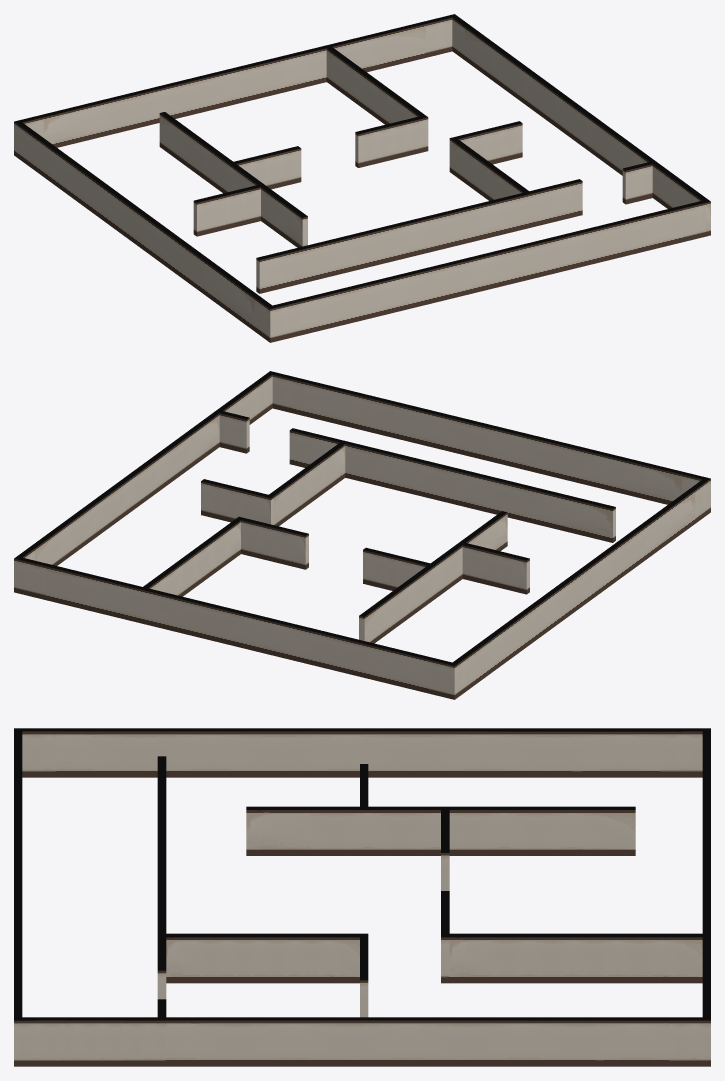
The model's file is Easy Wall.fbx.
The picture shows the model from 3 angles, top to bottom: view 1: azimuth 30°, elevation 25°; view 2: azimuth 150°, elevation 25°; view 3: azimuth 270°, elevation 25°; orthographic projection. The views are drawn at different scales.
Parts seen in each view (by area): view 1: Corner 1.003, Wall 1.002, Wall 1.006, Wall 1.007, Wall 1.004, Wall 1.008, Wall 1.003, Wall 1.010, Wall 1.013, Wall 1.009, Wall 1.012, Wall 1.011 (+7 smaller); view 2: Corner 1.003, Wall 1.002, Wall 1.006, Wall 1.007, Wall 1.004, Wall 1.008, Wall 1.003, Wall 1.009, Wall 1.010, Wall 1.013, Wall 1.012, Wall 1.011 (+5 smaller); view 3: Wall 1.007, Wall 1.004, Wall 1.008, Wall 1.003, Wall 1.009, Corner 1.003, Wall 1.005, Corner 1.002, Wall 1.006, Wall 1.002, Corner 1.038, Corner 1 (+6 smaller).
Part boxes in pixels (x1=…): Corner 1.003: x1=19, y1=14, x2=457, y2=147; Wall 1.002: x1=300, y1=206, x2=683, y2=334; Wall 1.006: x1=256, y1=179, x2=582, y2=293; Wall 1.007: x1=32, y1=134, x2=259, y2=331; Wall 1.004: x1=465, y1=25, x2=654, y2=175; Wall 1.008: x1=159, y1=112, x2=307, y2=247; Wall 1.003: x1=326, y1=47, x2=424, y2=124; Wall 1.010: x1=355, y1=115, x2=428, y2=167; Wall 1.013: x1=193, y1=185, x2=260, y2=236; Wall 1.009: x1=452, y1=139, x2=528, y2=200; Wall 1.012: x1=449, y1=121, x2=522, y2=173; Wall 1.011: x1=233, y1=146, x2=301, y2=189; Corner 1.003: x1=14, y1=556, x2=451, y2=698; Wall 1.002: x1=294, y1=377, x2=684, y2=504; Wall 1.006: x1=289, y1=428, x2=615, y2=542; Wall 1.007: x1=468, y1=488, x2=695, y2=685; Wall 1.004: x1=30, y1=412, x2=219, y2=565; Wall 1.008: x1=359, y1=511, x2=507, y2=643; Wall 1.003: x1=143, y1=519, x2=240, y2=596; Wall 1.009: x1=269, y1=442, x2=345, y2=526; Wall 1.010: x1=236, y1=516, x2=308, y2=569; Wall 1.013: x1=462, y1=543, x2=529, y2=594; Wall 1.012: x1=201, y1=479, x2=273, y2=524; Wall 1.011: x1=363, y1=547, x2=430, y2=590; Wall 1.007: x1=55, y1=728, x2=660, y2=777; Wall 1.004: x1=165, y1=1017, x2=668, y2=1066; Wall 1.008: x1=246, y1=806, x2=635, y2=855; Wall 1.003: x1=449, y1=933, x2=702, y2=983; Wall 1.009: x1=166, y1=933, x2=360, y2=983; Corner 1.003: x1=702, y1=731, x2=710, y2=1066; Wall 1.005: x1=64, y1=1017, x2=123, y2=1066; Corner 1.002: x1=14, y1=1003, x2=64, y2=1066; Wall 1.006: x1=157, y1=756, x2=166, y2=999; Wall 1.002: x1=14, y1=746, x2=22, y2=1002; Corner 1.038: x1=660, y1=731, x2=702, y2=777; Corner 1: x1=14, y1=728, x2=56, y2=777.
Size of the model in its own units: 81.83 by 6 by 82.4.
